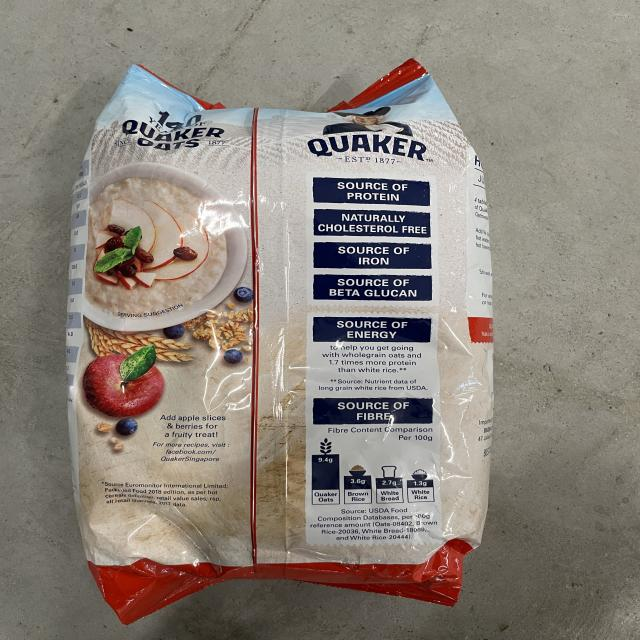object_name: (98, 94, 462, 585)
